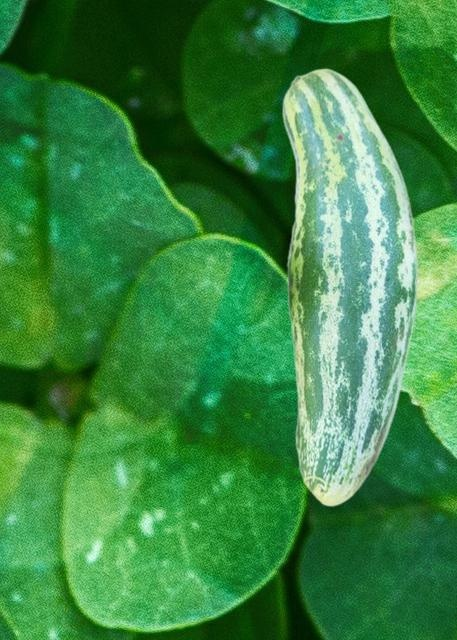cucumber: (281, 67, 417, 506)
